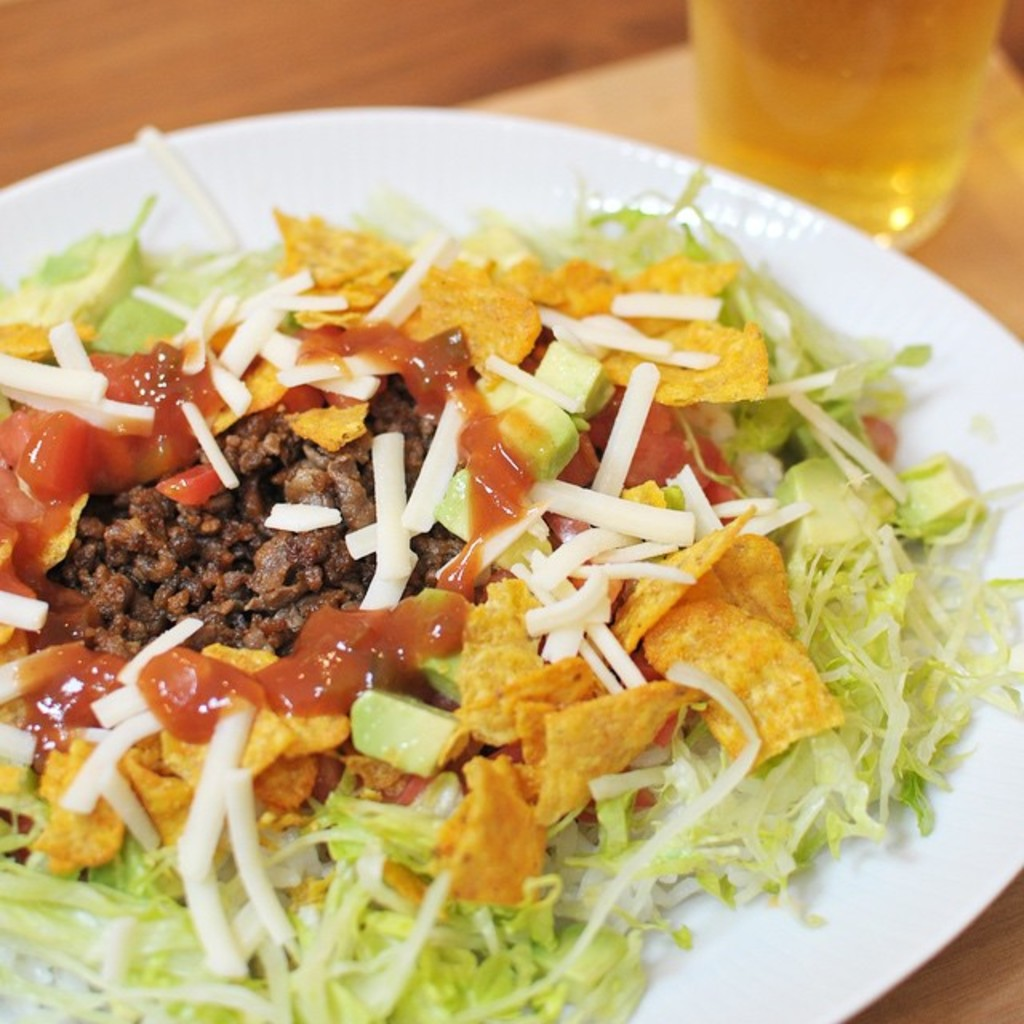salad: (0, 112, 1000, 1024)
